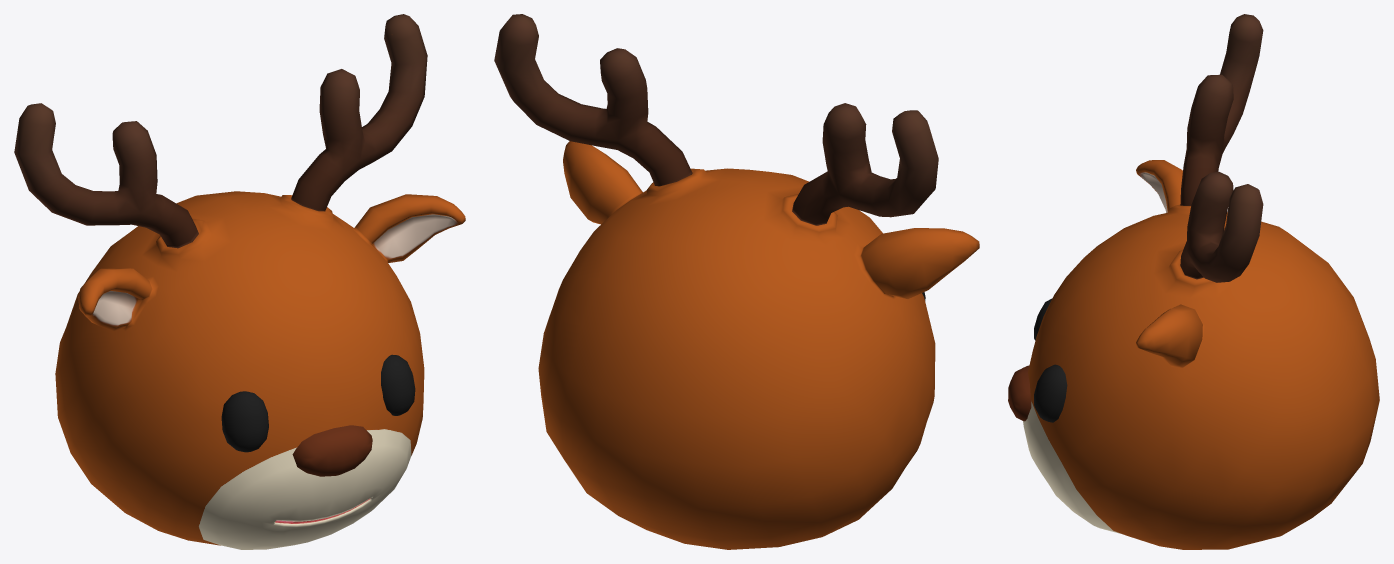
Rendered from Deer_Cut.fbx.
3 renders of one model, left to right at view 1: azimuth 30°, elevation 25°; view 2: azimuth 150°, elevation 25°; view 3: azimuth 270°, elevation 25°, orthographic. The views are drawn at different scales.
Parts seen in each view (by area): view 1: LT, L, T, RT, C, LB, R, B, RB; view 2: LT, L, T, RT, C, LB, R, B, RB; view 3: R, RT, T, RB, LT, C.
Boxes of the visible parts, <box> form: LT: <box>14,103,259,375</box>; L: <box>55,292,273,502</box>; T: <box>176,183,374,374</box>; RT: <box>295,14,465,346</box>; C: <box>260,347,387,501</box>; LB: <box>65,437,271,549</box>; R: <box>374,289,424,473</box>; B: <box>239,474,385,549</box>; RB: <box>367,441,417,513</box>; LT: <box>719,103,979,367</box>; L: <box>708,292,935,501</box>; T: <box>597,155,808,365</box>; RT: <box>494,14,694,335</box>; C: <box>585,336,719,499</box>; LB: <box>713,439,921,548</box>; R: <box>538,282,596,469</box>; B: <box>590,470,751,549</box>; RB: <box>549,436,608,508</box>; R: <box>1033,346,1367,504</box>; RT: <box>1059,171,1346,386</box>; T: <box>1045,187,1360,345</box>; RB: <box>1038,461,1359,549</box>; LT: <box>1095,14,1281,247</box>; C: <box>1008,303,1379,460</box>.
Size of the model in its own units: 52.84 by 55.18 by 43.66.
